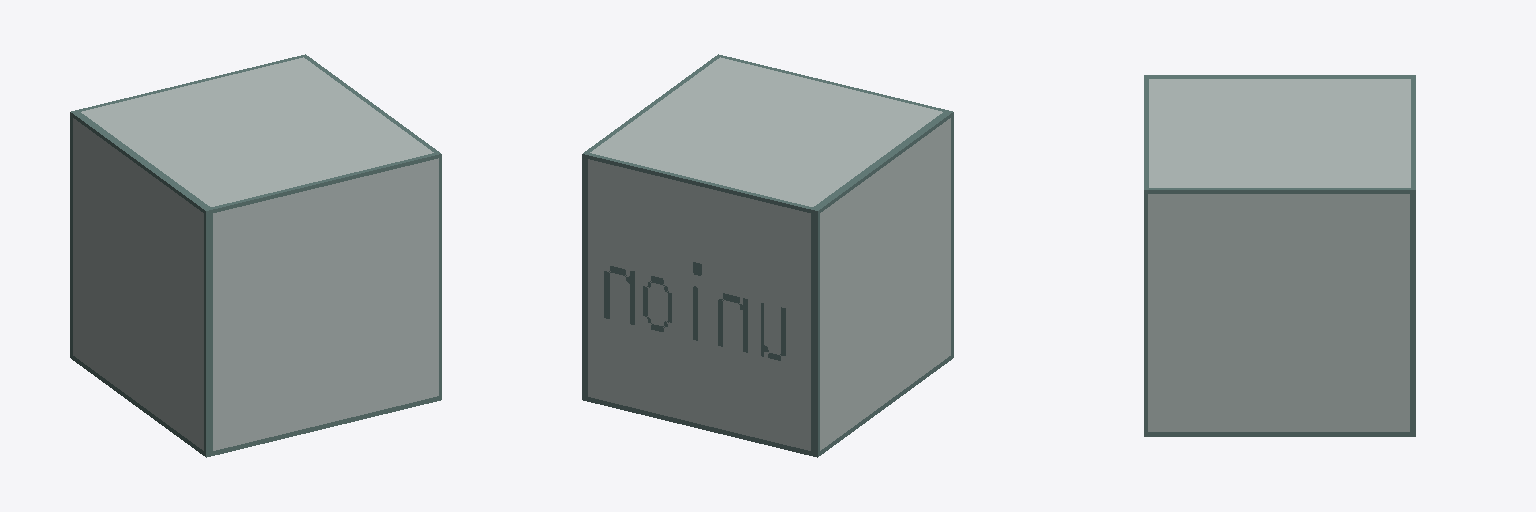
3 views of the same model, side by side, from view 1: azimuth 30°, elevation 25°; view 2: azimuth 150°, elevation 25°; view 3: azimuth 270°, elevation 25° (orthographic).
Parts seen in each view (by area): view 1: Cube; view 2: Cube; view 3: Cube.
Part boxes in pixels (left/top/right/bottom): Cube: left=70, top=54, right=441, bottom=457; Cube: left=582, top=54, right=953, bottom=457; Cube: left=1144, top=75, right=1415, bottom=436.
Size of the model in its own units: 2 by 2 by 2.
1 materials, 1 textured.